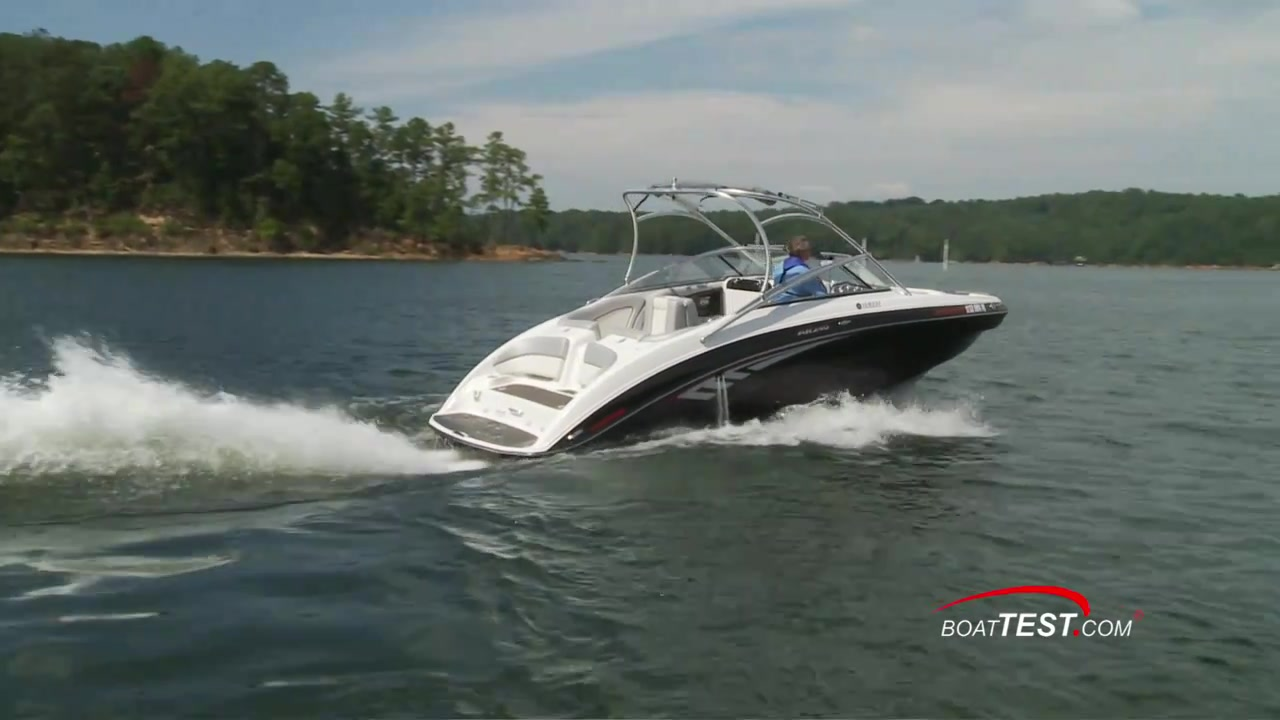boat: (427, 180, 1016, 464)
